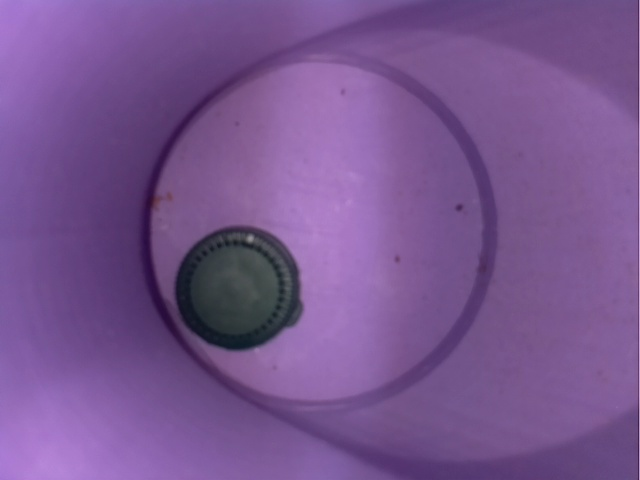bouchon: (155, 208, 312, 368)
